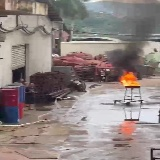fire: (119, 71, 139, 86)
